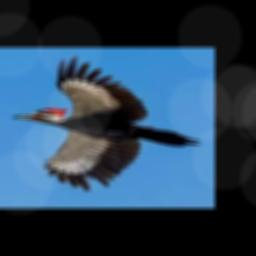Woodpecker: (11, 54, 201, 191)
